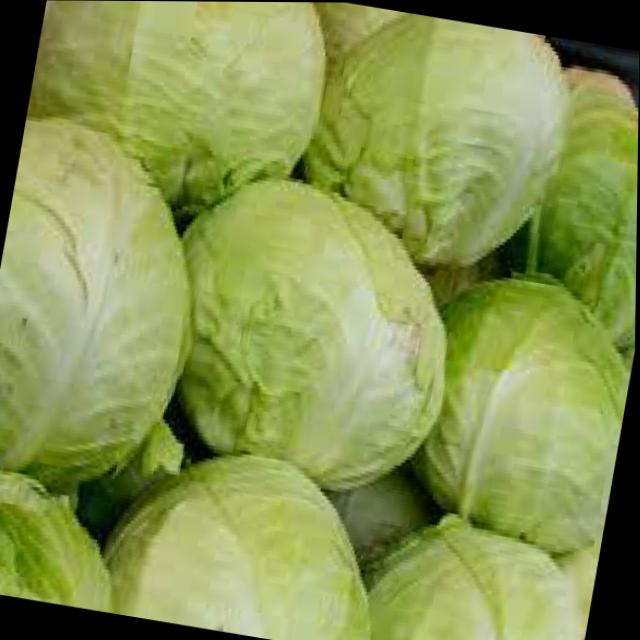Cabbage: (146, 162, 479, 506), (0, 112, 227, 497), (299, 2, 577, 281), (402, 259, 637, 563), (18, 0, 339, 215), (96, 431, 400, 640), (507, 62, 639, 349), (352, 504, 603, 640), (0, 457, 132, 612)
